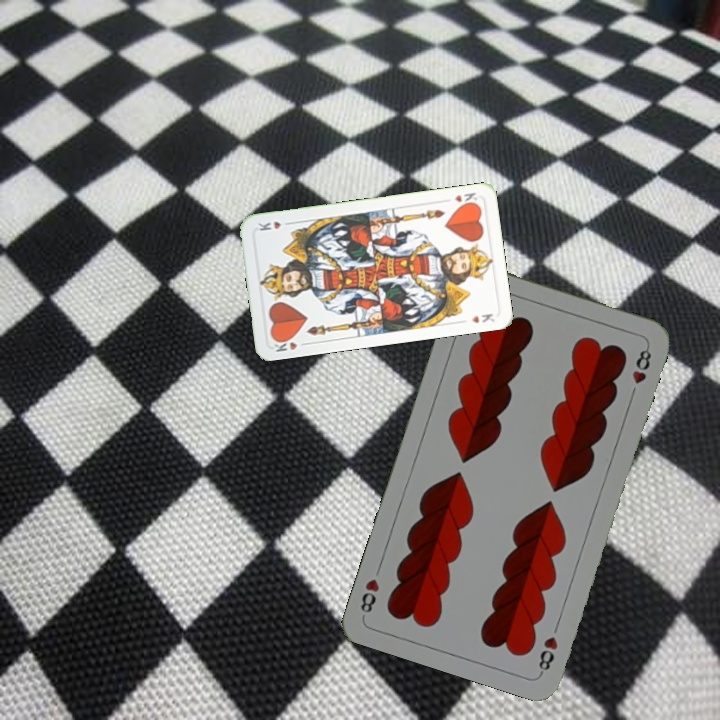H8: (534, 632, 561, 676)
HK: (270, 333, 310, 354), (450, 188, 481, 209)
